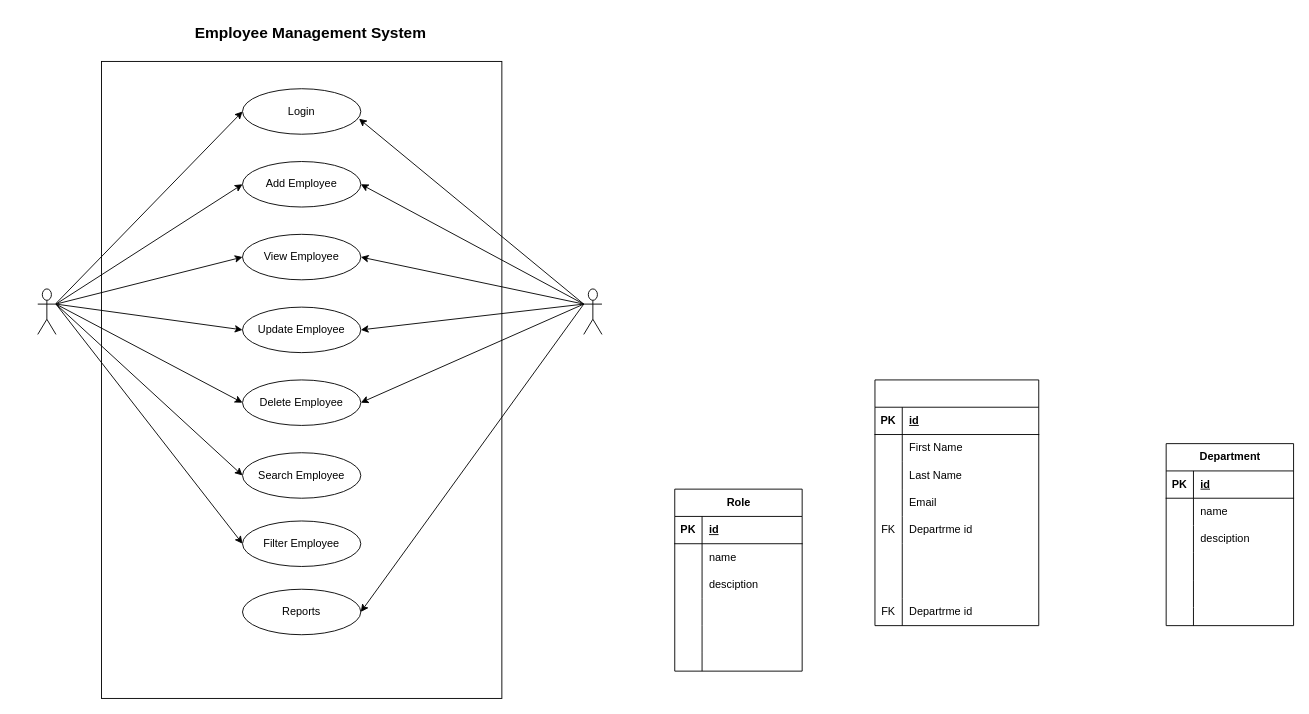
The diagram is 1309 pixels wide and 714 high, and some of its shapes have lost their labels. The shapes that lost their labels are listed below. From the top down, each one's box as (x1, y1, x2, y2) in pixels, then its label:
(37, 288, 56, 334): HR Manager
(583, 288, 602, 334): Admin
(874, 379, 1039, 626): Employee
